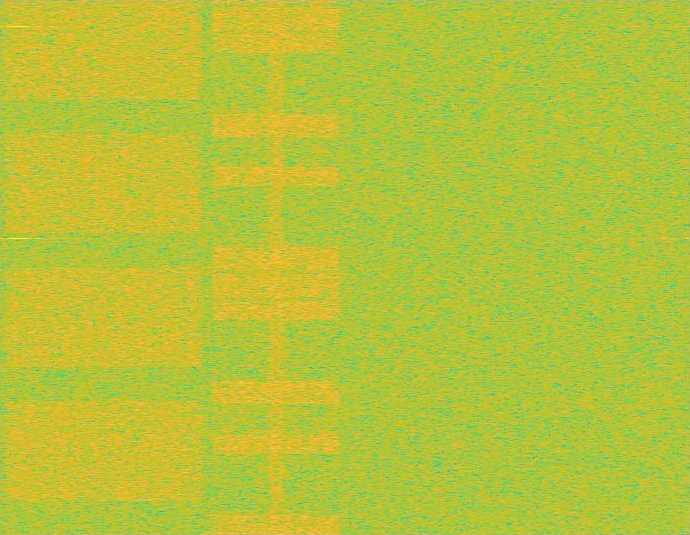5G: (0, 0, 207, 534)
DSSS: (267, 0, 285, 534)
LTE: (207, 0, 345, 534)
Radar: (12, 0, 26, 534)
